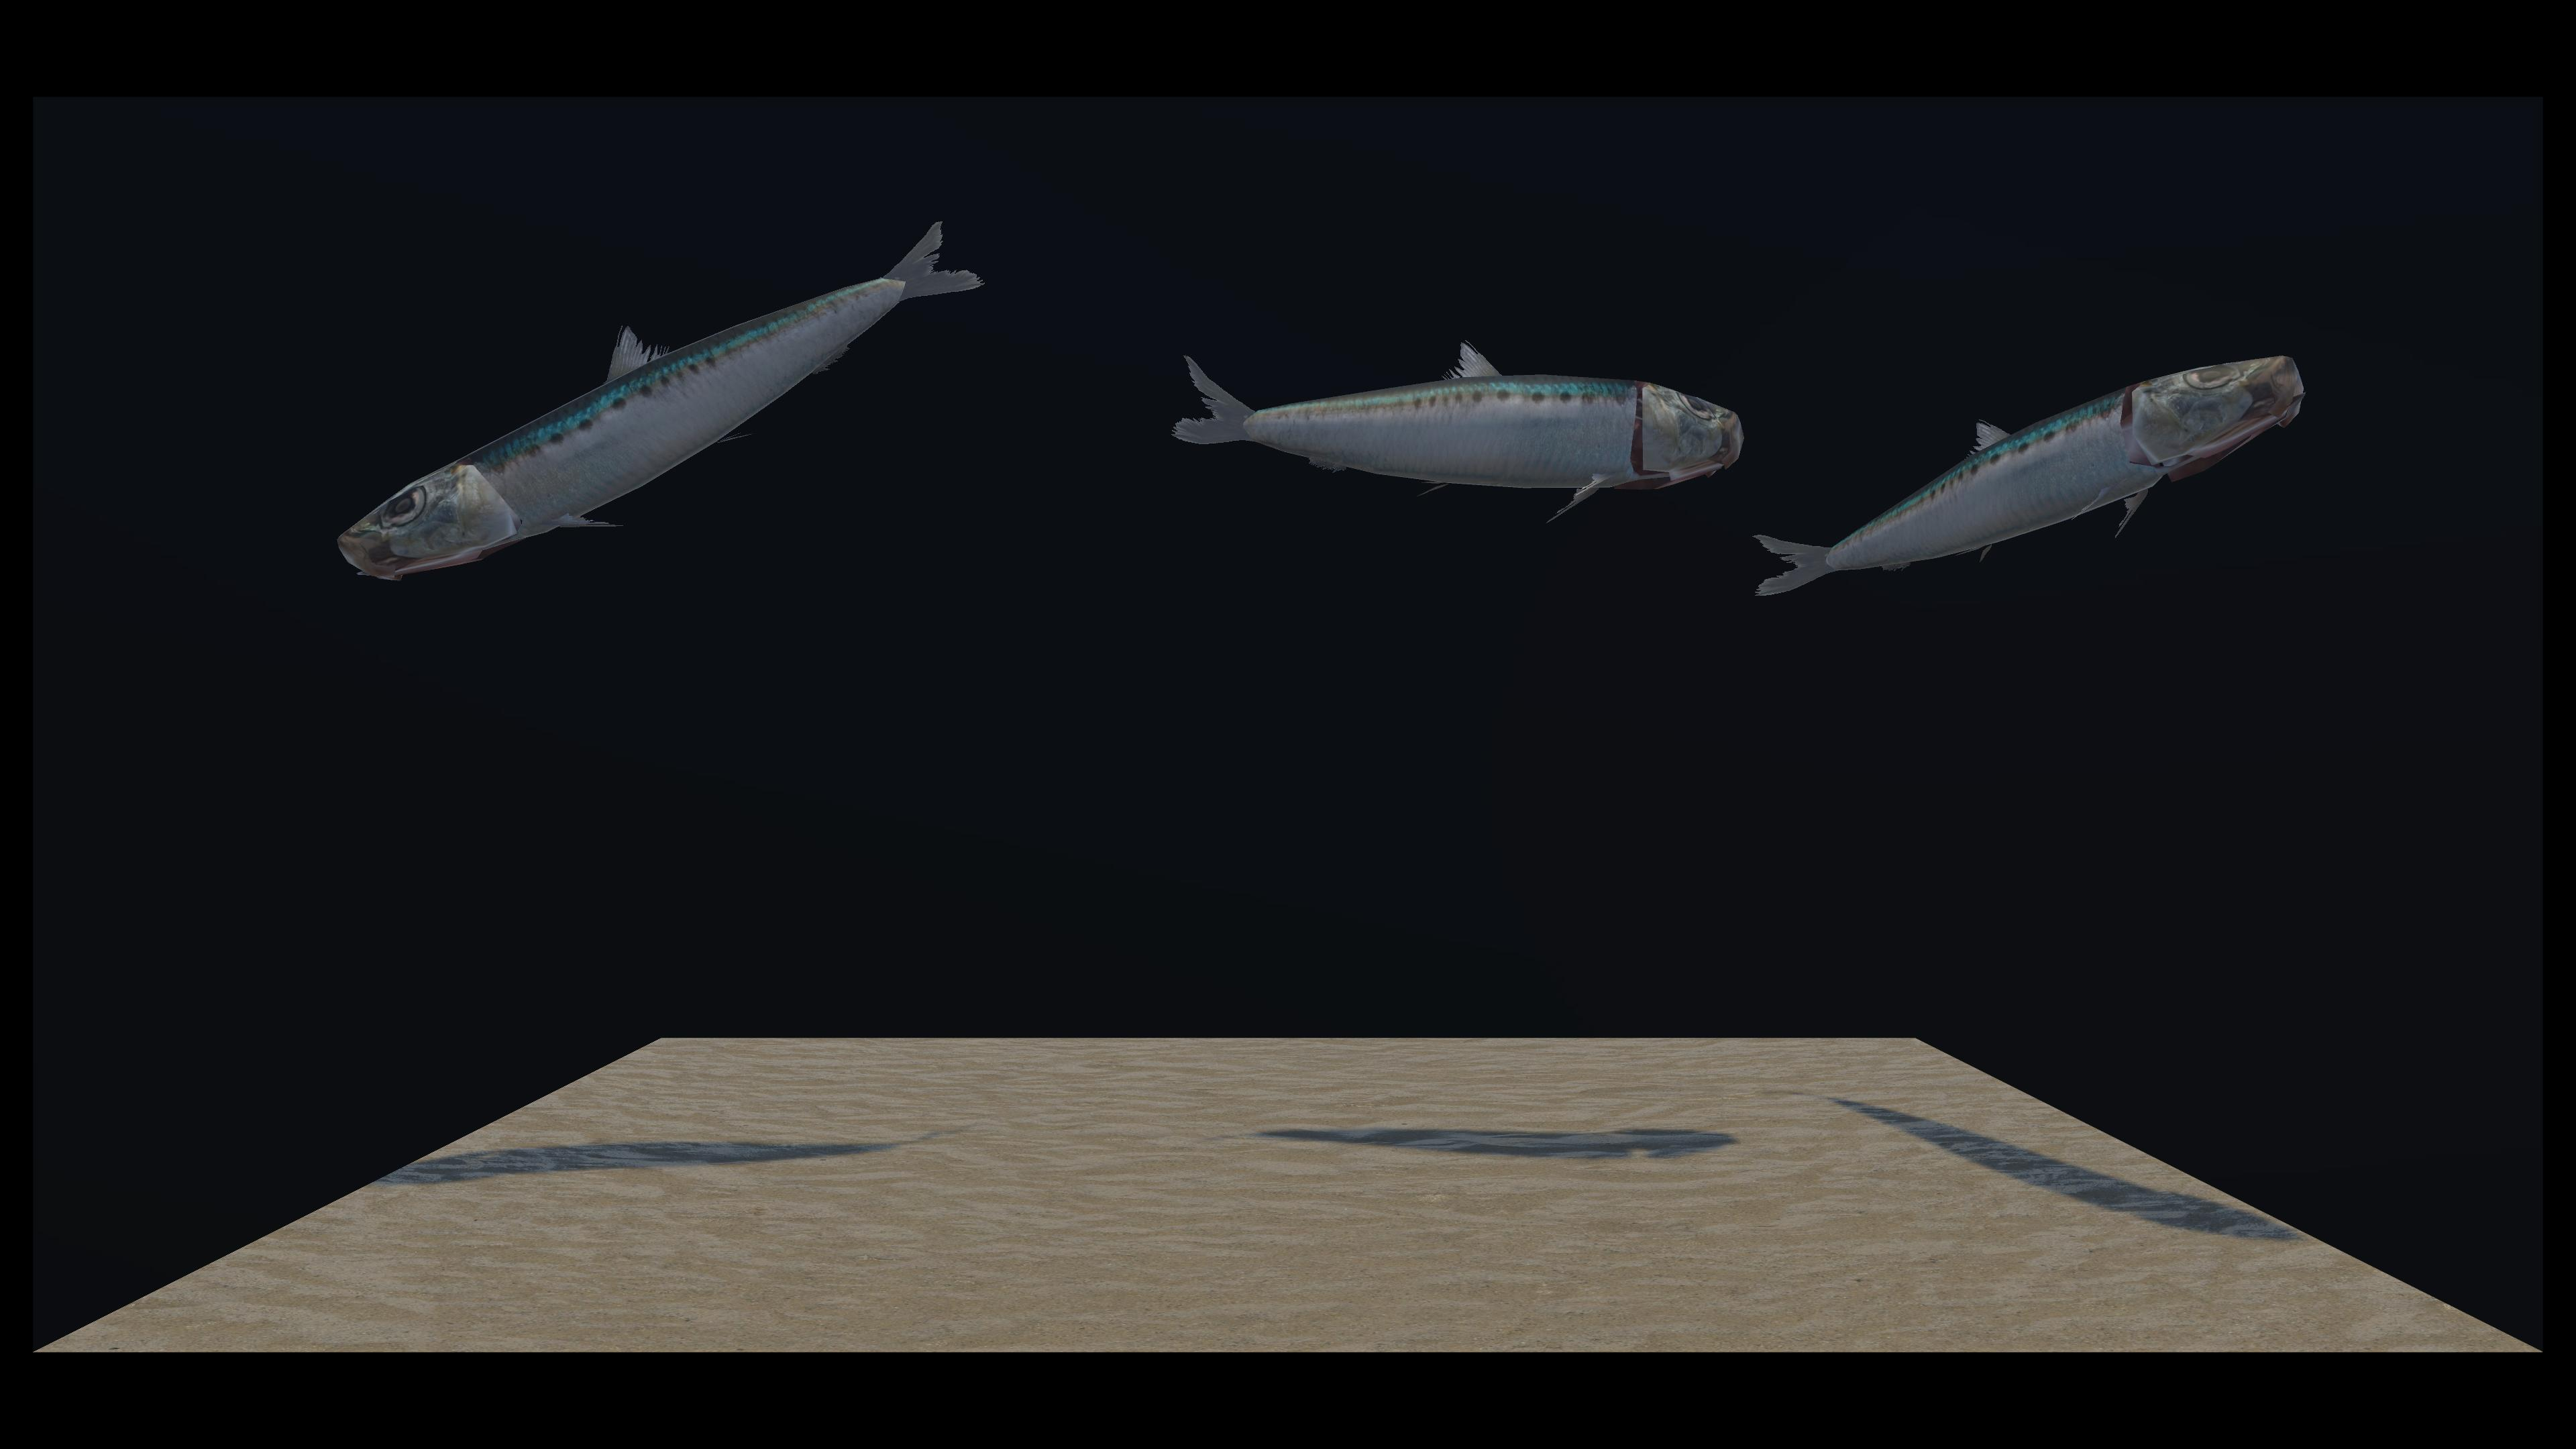Sardine_Front: (888, 357, 2282, 598), (343, 219, 978, 651), (720, 304, 1729, 527)
